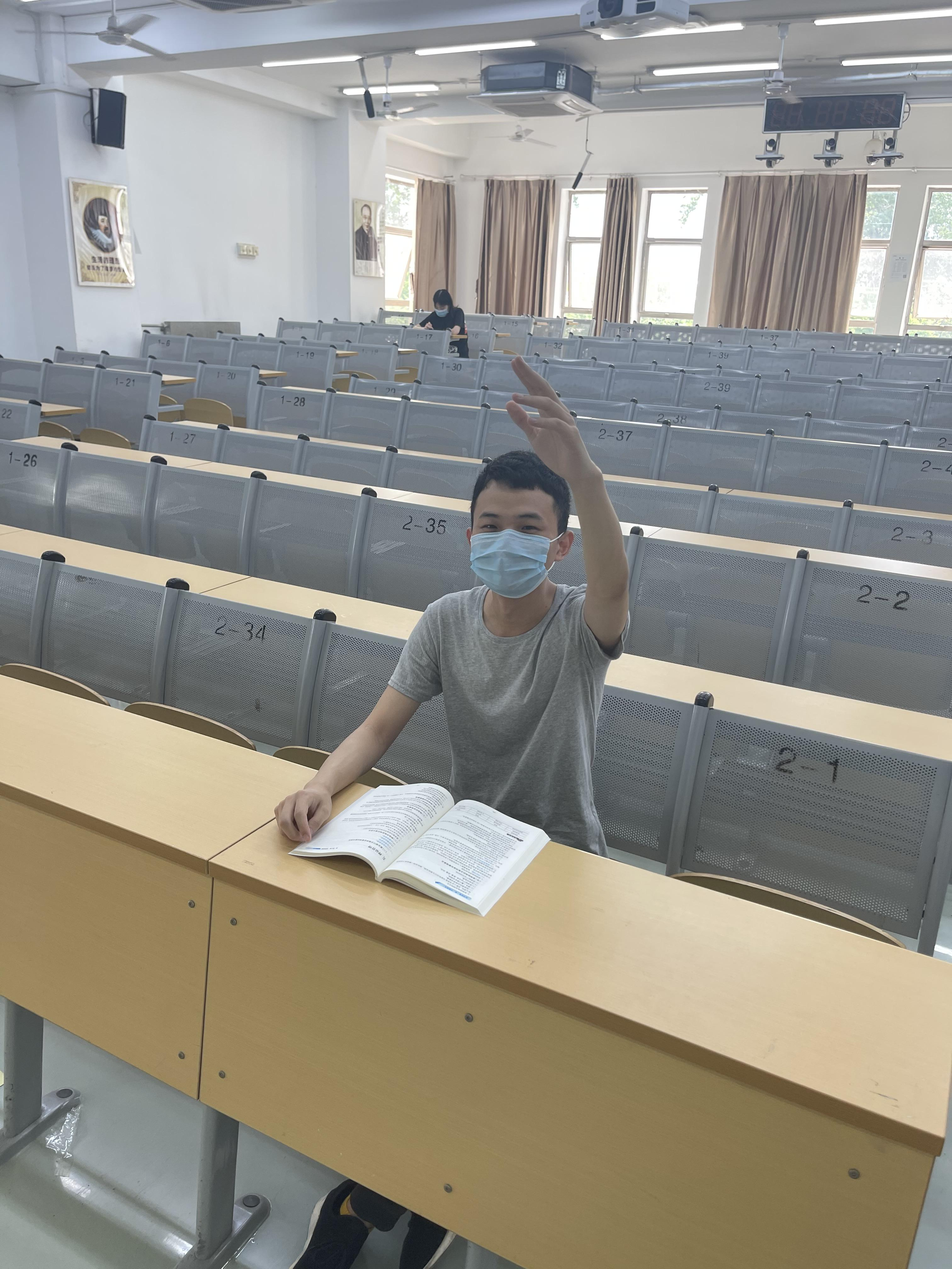study: (280, 361, 628, 877)
